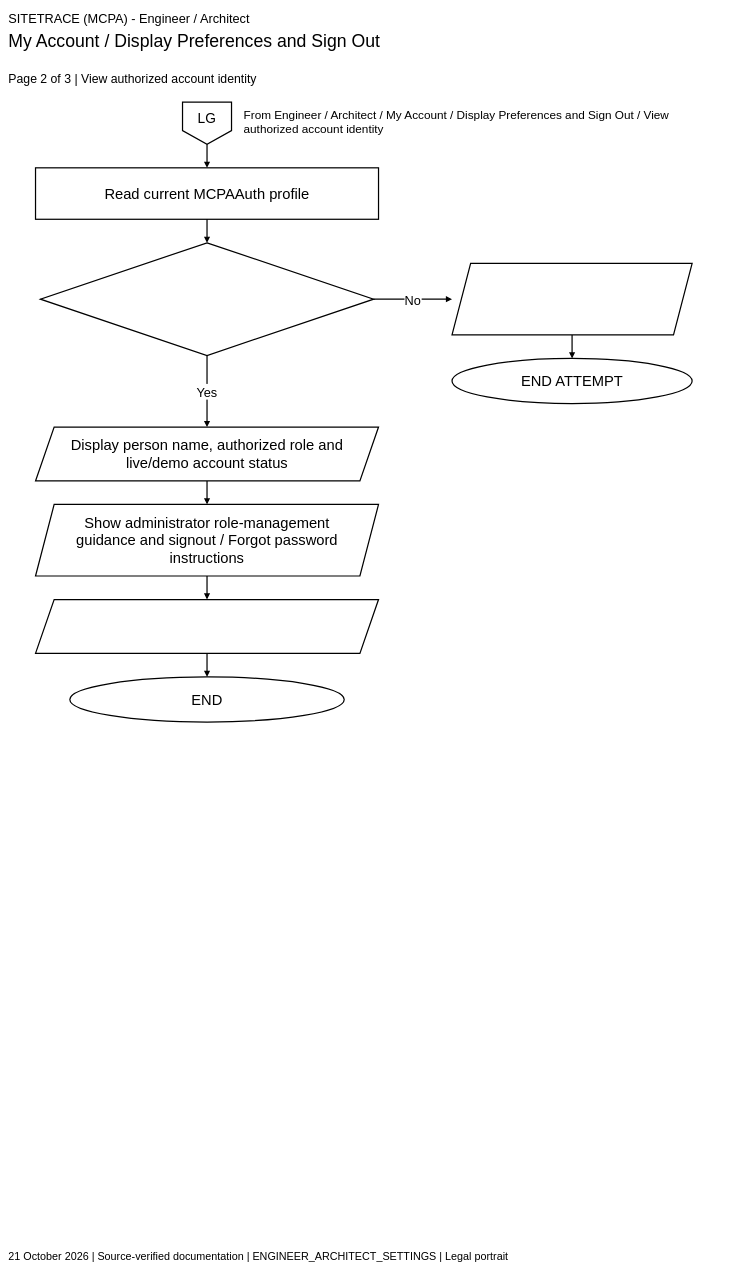
This 737x1274 diagram has some shape labels left out. Here are the shapes that lost their labels. From the top down, the centre of each, then its label:
the point at 207,299: A signed-in profile exists?
the point at 572,299: Do not initialize protected settings; return through the authentication flow
the point at 207,626: The existing authorized identity is displayed without account mutation.
